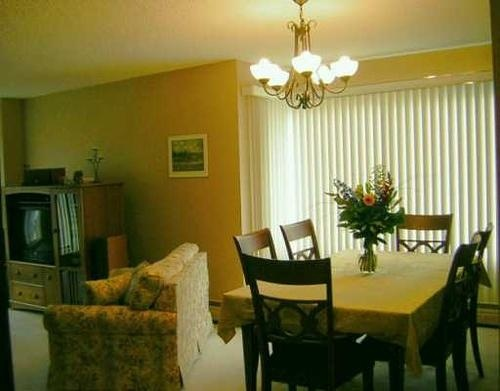chair: (238, 250, 377, 391), (412, 242, 480, 390), (469, 221, 495, 380), (235, 228, 281, 285), (396, 212, 454, 255), (281, 218, 323, 261)
sofa: (43, 241, 213, 391)
tvmonitor: (11, 201, 54, 266)
